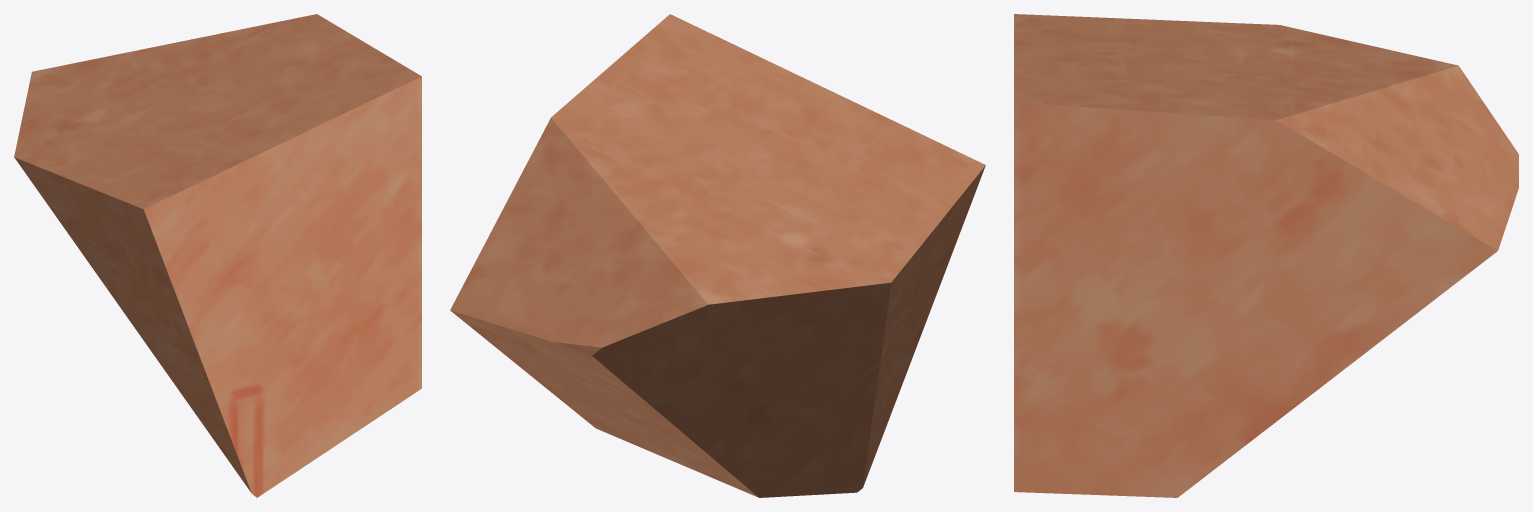
The model's file is townwall_tower_s00.fbx.
The picture shows the model from 3 angles, left to right: view 1: azimuth 30°, elevation 25°; view 2: azimuth 150°, elevation 25°; view 3: azimuth 270°, elevation 25°; orthographic projection. The views are drawn at different scales.
Parts seen in each view (by area): view 1: townwall_tower_s00; view 2: townwall_tower_s00; view 3: townwall_tower_s00.
Part boxes in pixels (x1,y1,x2,y2): townwall_tower_s00: [14, 14, 421, 497]; townwall_tower_s00: [450, 14, 985, 497]; townwall_tower_s00: [1014, 14, 1518, 497].
Bounding box in the file's own units: 5.68 × 6.87 × 6.6.
